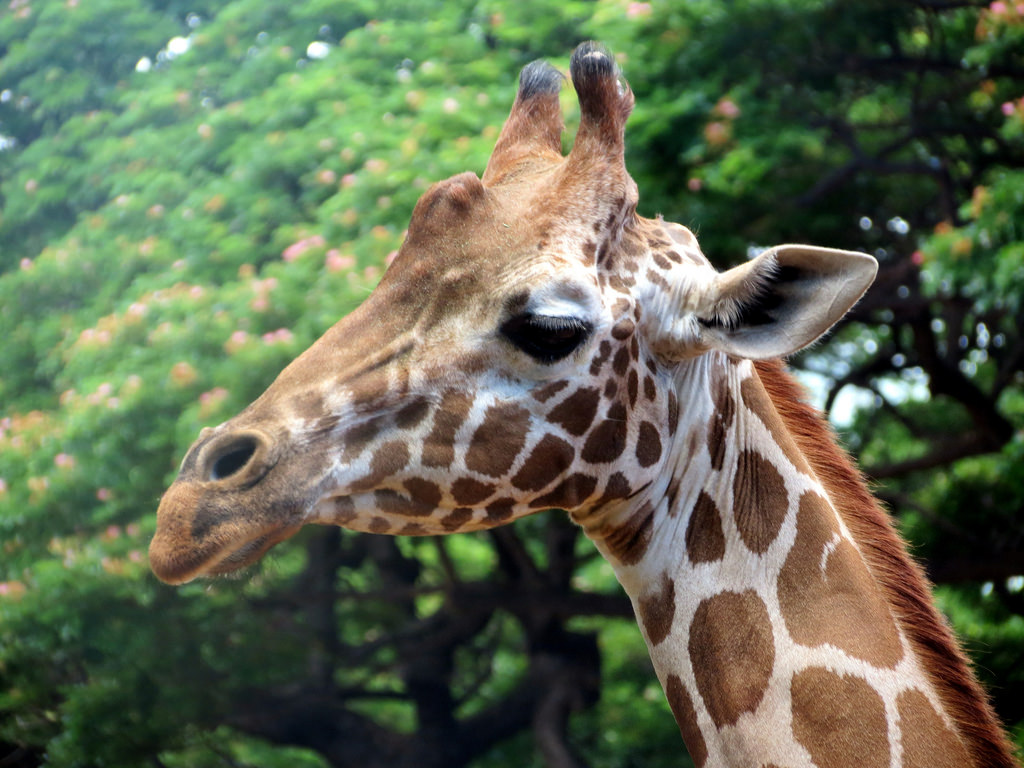giraffe: (134, 47, 961, 738)
